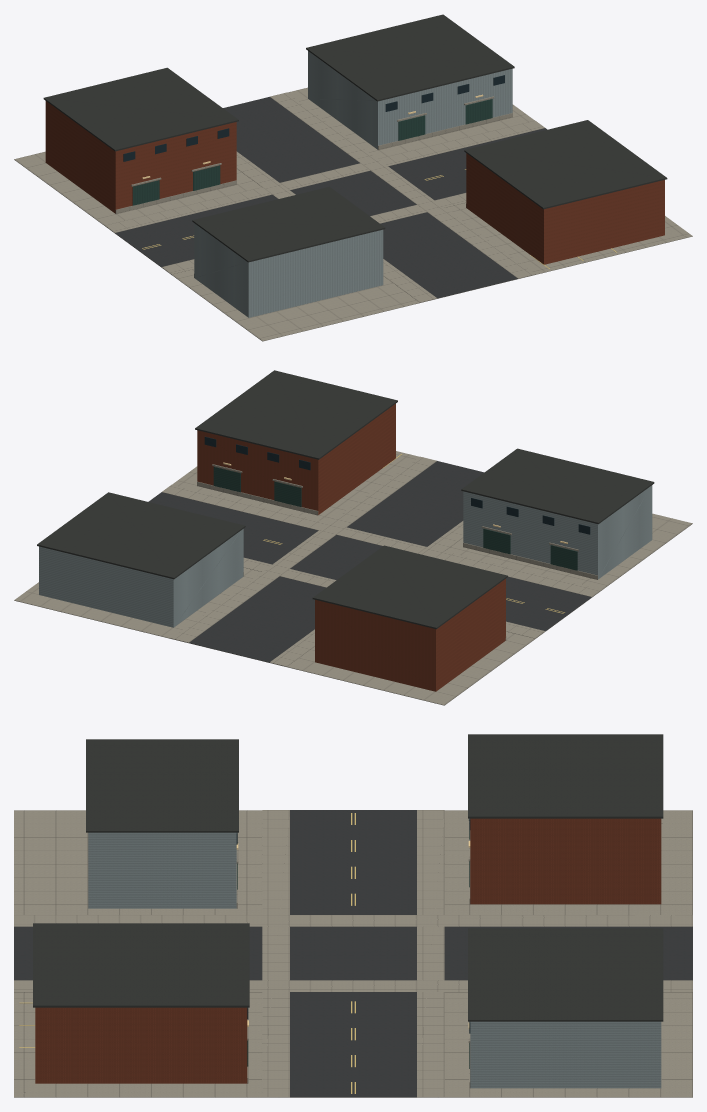
The model's file is industrial_1_0.glb.
3 views of the same model, one above another, from view 1: azimuth 30°, elevation 25°; view 2: azimuth 150°, elevation 25°; view 3: azimuth 270°, elevation 25° (orthographic). The views are drawn at different scales.
Parts seen in each view (by area): view 1: Freight Yard / North south street, Freight Yard / Yard paving, Freight Yard / Building 3 shell, Freight Yard / Building 2 shell, Freight Yard / Building 0 shell, Freight Yard / Building 1 roof, Freight Yard / Building 3 roof, Freight Yard / Building 0 roof, Freight Yard / Building 1 shell, Freight Yard / Building 2 roof, Freight Yard / East west street, Freight Yard / Street walk X 1 (+9 smaller); view 2: Freight Yard / North south street, Freight Yard / Yard paving, Freight Yard / Building 0 shell, Freight Yard / Building 1 shell, Freight Yard / Building 1 roof, Freight Yard / Building 3 roof, Freight Yard / Building 3 shell, Freight Yard / Building 0 roof, Freight Yard / Building 2 shell, Freight Yard / Building 2 roof, Freight Yard / East west street, Freight Yard / Street walk X 1 (+9 smaller); view 3: Freight Yard / Yard paving, Freight Yard / East west street, Freight Yard / Building 3 roof, Freight Yard / Building 1 roof, Freight Yard / Building 0 shell, Freight Yard / Building 0 roof, Freight Yard / Building 3 shell, Freight Yard / Building 2 roof, Freight Yard / Building 1 shell, Freight Yard / North south street, Freight Yard / Building 2 shell, Freight Yard / Street walk X -1 (+3 smaller).
Boxes of the visible parts, <box> form: Freight Yard / North south street: <box>223,97,517,298</box>; Freight Yard / Yard paving: <box>14,87,692,341</box>; Freight Yard / Building 3 shell: <box>466,153,664,264</box>; Freight Yard / Building 2 shell: <box>194,223,383,317</box>; Freight Yard / Building 0 shell: <box>45,101,236,213</box>; Freight Yard / Building 1 roof: <box>306,14,514,101</box>; Freight Yard / Building 3 roof: <box>464,120,667,209</box>; Freight Yard / Building 0 roof: <box>43,67,238,151</box>; Freight Yard / Building 1 shell: <box>308,51,512,149</box>; Freight Yard / Building 2 roof: <box>192,186,385,262</box>; Freight Yard / East west street: <box>115,128,547,266</box>; Freight Yard / Street walk X 1: <box>270,92,535,278</box>; Freight Yard / North south street: <box>189,461,484,662</box>; Freight Yard / Yard paving: <box>14,451,692,705</box>; Freight Yard / Building 0 shell: <box>315,579,505,691</box>; Freight Yard / Building 1 shell: <box>39,529,243,627</box>; Freight Yard / Building 1 roof: <box>37,492,245,579</box>; Freight Yard / Building 3 roof: <box>195,370,397,459</box>; Freight Yard / Building 3 shell: <box>197,404,395,514</box>; Freight Yard / Building 0 roof: <box>312,545,507,629</box>; Freight Yard / Building 2 shell: <box>463,485,652,579</box>; Freight Yard / Building 2 roof: <box>461,448,654,524</box>; Freight Yard / East west street: <box>148,492,591,630</box>; Freight Yard / Street walk X 1: <box>171,456,436,642</box>; Freight Yard / Yard paving: <box>14,810,692,1097</box>; Freight Yard / East west street: <box>290,810,416,1097</box>; Freight Yard / Building 3 roof: <box>33,923,249,1007</box>; Freight Yard / Building 1 roof: <box>468,928,663,1021</box>; Freight Yard / Building 0 shell: <box>470,818,661,904</box>; Freight Yard / Building 0 roof: <box>468,734,663,818</box>; Freight Yard / Building 3 shell: <box>35,1007,247,1083</box>; Freight Yard / Building 2 roof: <box>86,739,238,832</box>; Freight Yard / Building 1 shell: <box>470,1021,661,1088</box>; Freight Yard / North south street: <box>14,926,692,980</box>; Freight Yard / Building 2 shell: <box>88,832,236,908</box>; Freight Yard / Street walk X -1: <box>14,915,692,926</box>.
Bounding box in the file's own units: 64 × 9.26 × 64.
Materials: 9 (9 with a texture image).
